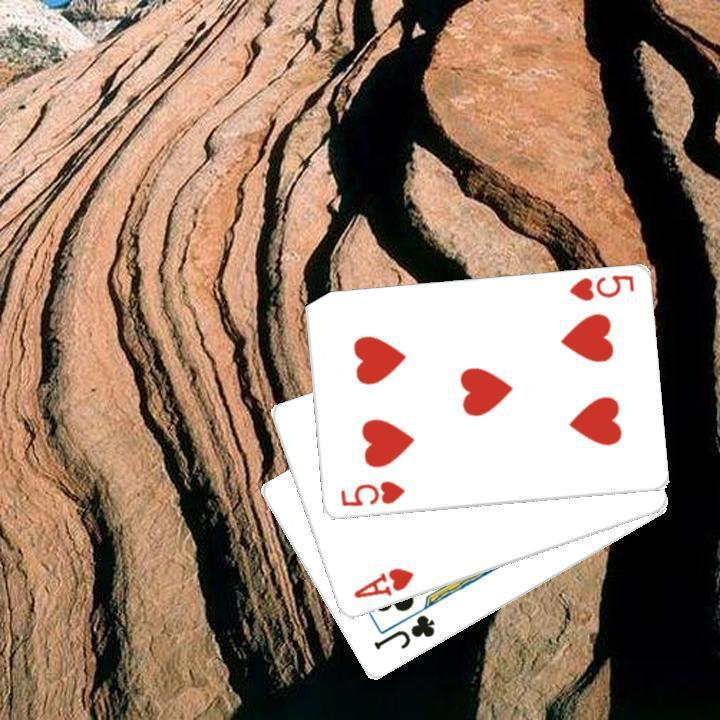5: (564, 271, 636, 304), (335, 477, 406, 510)
A: (349, 564, 416, 601)
J: (369, 610, 437, 653)
